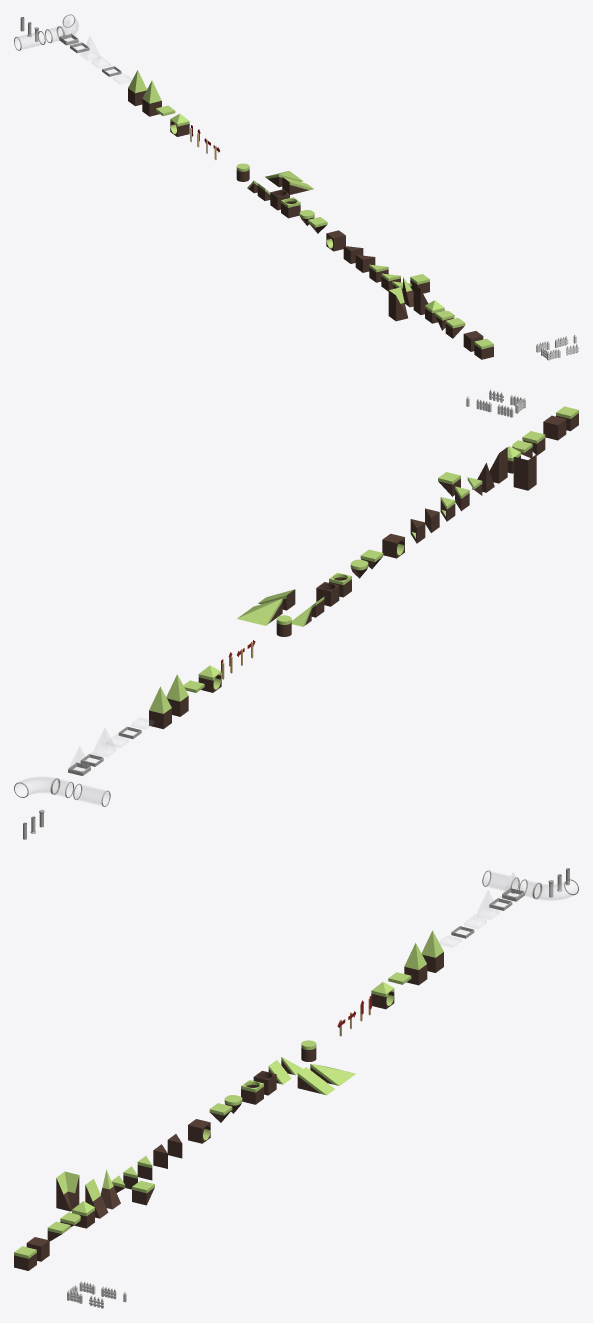
File: Tiles 10.dae
3 views of the same model, one above another, from view 1: azimuth 30°, elevation 25°; view 2: azimuth 150°, elevation 25°; view 3: azimuth 330°, elevation 25° (orthographic). The views are drawn at different scales.
Parts seen in each view (by area): view 1: 18 Wall Slanted Concave Corner -col, 22 Ground Spike Tall -col, 22 Ground Spike Tall Hollow -col; view 2: 18 Wall Slanted Concave Corner -col, 19b Ground Slope2 Corner -col, 22 Ground Spike Tall Hollow -col, 24 Pipe L -col, 22 Ground Spike Tall -col, 24 Pipe I long -col; view 3: 18 Wall Slanted Concave Corner -col, 24 Pipe L -col, 22 Ground Spike Tall -col, 19 Ground Slope2 -col, 22 Ground Spike Tall Hollow -col, 19b Ground Slope2 Corner -col.
Boxes of the visible parts, x1=… form: 18 Wall Slanted Concave Corner -col: x1=388, y1=287, x2=407, y2=321; 22 Ground Spike Tall -col: x1=142, y1=80, x2=161, y2=116; 22 Ground Spike Tall Hollow -col: x1=128, y1=70, x2=146, y2=106; 18 Wall Slanted Concave Corner -col: x1=513, y1=454, x2=536, y2=490; 19b Ground Slope2 Corner -col: x1=237, y1=598, x2=282, y2=625; 22 Ground Spike Tall Hollow -col: x1=149, y1=686, x2=171, y2=729; 24 Pipe L -col: x1=14, y1=777, x2=59, y2=797; 22 Ground Spike Tall -col: x1=166, y1=674, x2=188, y2=716; 24 Pipe I long -col: x1=73, y1=783, x2=110, y2=806; 18 Wall Slanted Concave Corner -col: x1=56, y1=1171, x2=79, y2=1211; 24 Pipe L -col: x1=533, y1=879, x2=578, y2=900; 22 Ground Spike Tall -col: x1=404, y1=943, x2=427, y2=985; 19 Ground Slope2 -col: x1=297, y1=1067, x2=334, y2=1095; 22 Ground Spike Tall Hollow -col: x1=421, y1=930, x2=443, y2=972; 19b Ground Slope2 Corner -col: x1=310, y1=1064, x2=355, y2=1085.
Bounding box in the file's own units: 20.31 × 133 × 7.
